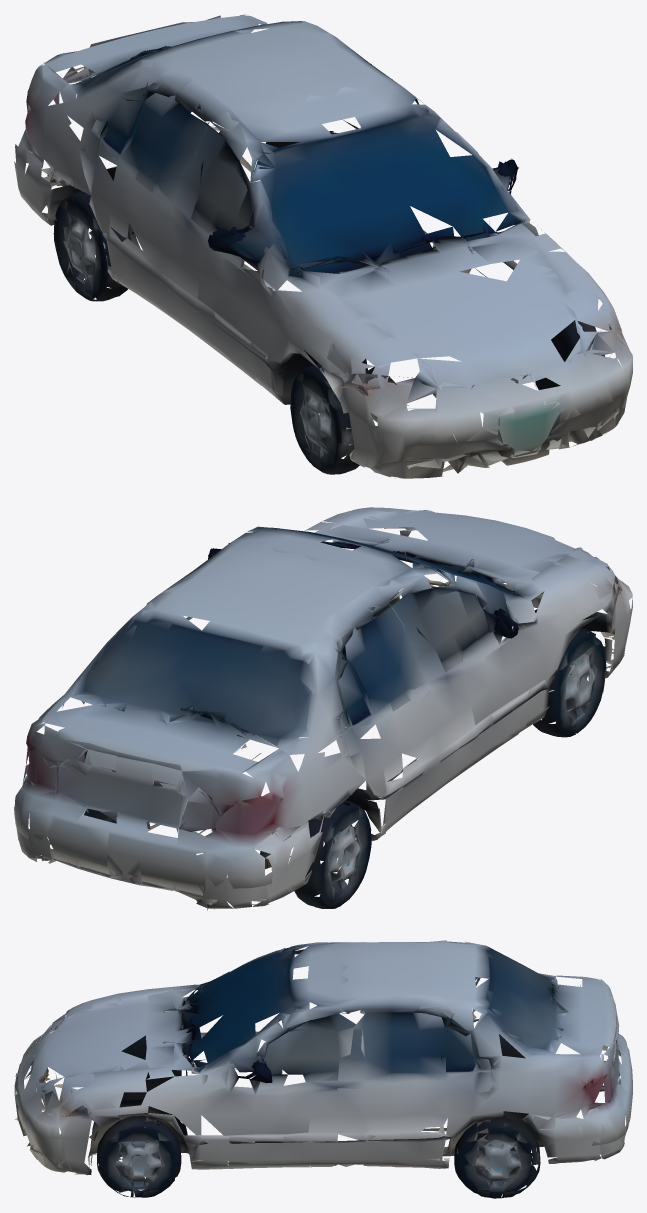
File: accent_lo.glb
3 renders of one model, top to bottom at view 1: azimuth 30°, elevation 25°; view 2: azimuth 150°, elevation 25°; view 3: azimuth 270°, elevation 25°, orthographic. The views are drawn at different scales.
Parts seen in each view (by area): view 1: body_q, wFR_q, wRR_q, wFL_q; view 2: body_q, wRR_q, wFR_q; view 3: body_q, wFL_q, wRL_q, wFR_q.
Boxes of the visible parts, x1,y1,x2,y2 form: body_q: (14, 14, 632, 478); wFR_q: (290, 363, 359, 474); wRR_q: (53, 191, 134, 301); wFL_q: (535, 320, 604, 389); body_q: (14, 507, 632, 910); wRR_q: (294, 796, 381, 908); wFR_q: (533, 628, 612, 737); body_q: (14, 940, 632, 1175); wFL_q: (91, 1116, 181, 1197); wRL_q: (449, 1117, 540, 1198); wFR_q: (122, 1035, 181, 1099).
Bounding box in the file's own units: 1.8 × 1.35 × 4.11.
